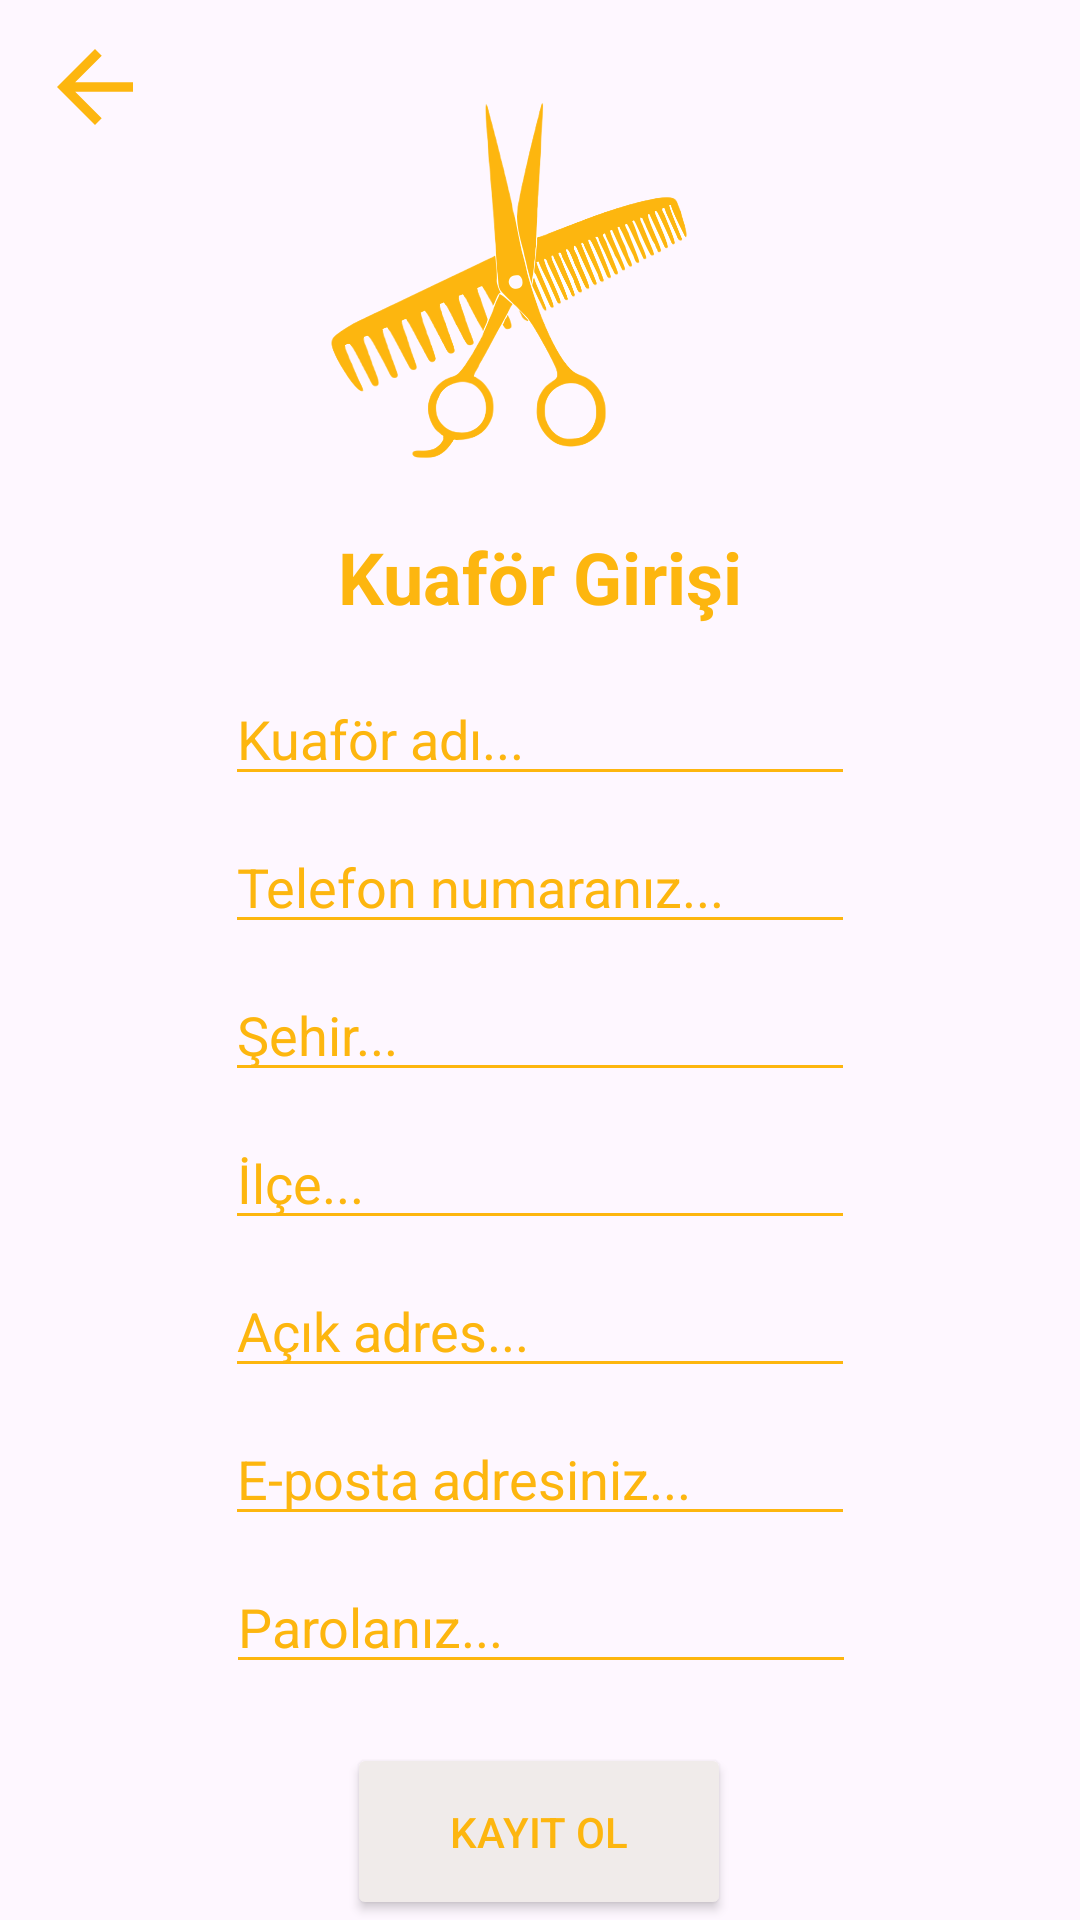

Where to tap for icons on this 1080x1920 app screen, as (x=x, y=y):
arrow back: (x=95, y=87)
resim: (x=509, y=280)
